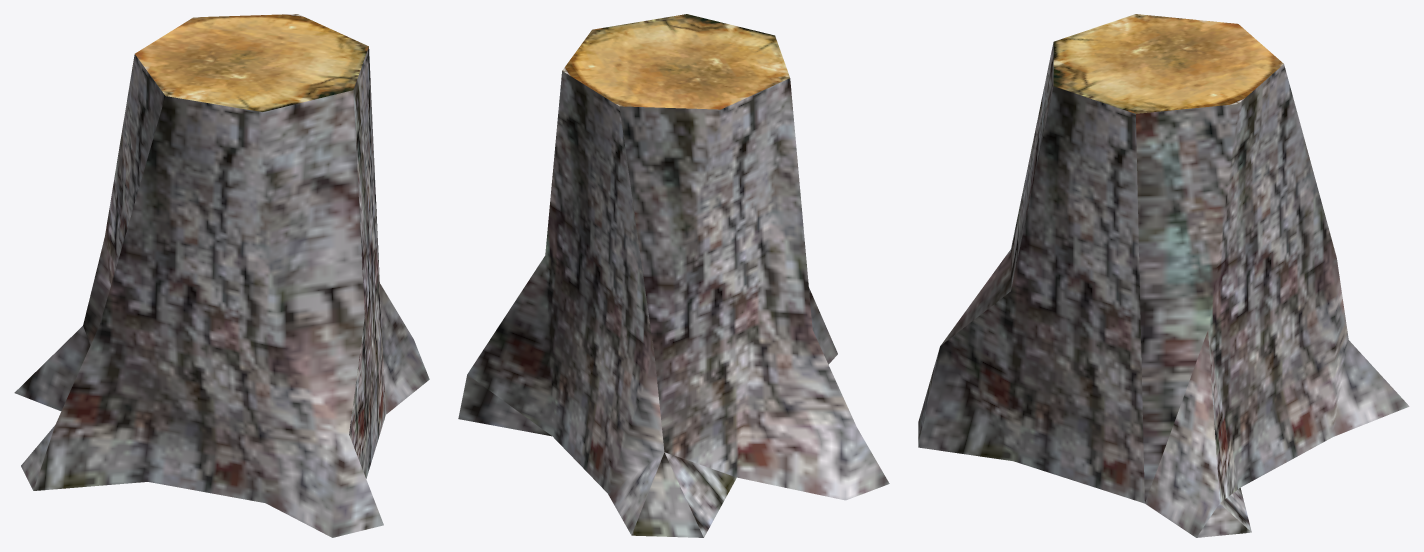
The model's file is tree_stump.glb.
3 views of the same model, side by side, from view 1: azimuth 30°, elevation 25°; view 2: azimuth 150°, elevation 25°; view 3: azimuth 270°, elevation 25° (orthographic). The views are drawn at different scales.
Visible parts, largest first — view 1: trees_chopped.001; view 2: trees_chopped.001; view 3: trees_chopped.001.
Boxes of the visible parts, x1,y1,x2,y2 form: trees_chopped.001: (14, 14, 429, 537); trees_chopped.001: (458, 14, 889, 537); trees_chopped.001: (918, 14, 1409, 537).
Size of the model in its own units: 0.9302 by 0.8152 by 0.9564.
Materials: 1 (1 with a texture image).
